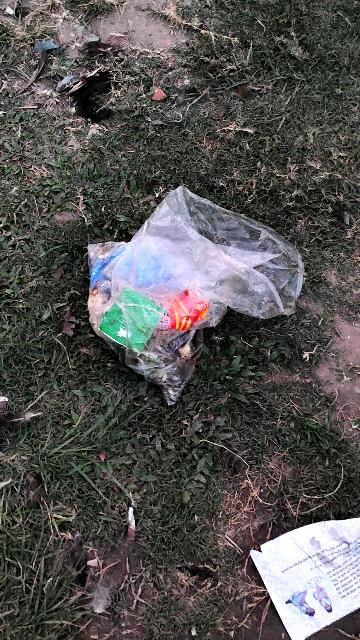polythene: (60, 152, 312, 400)
